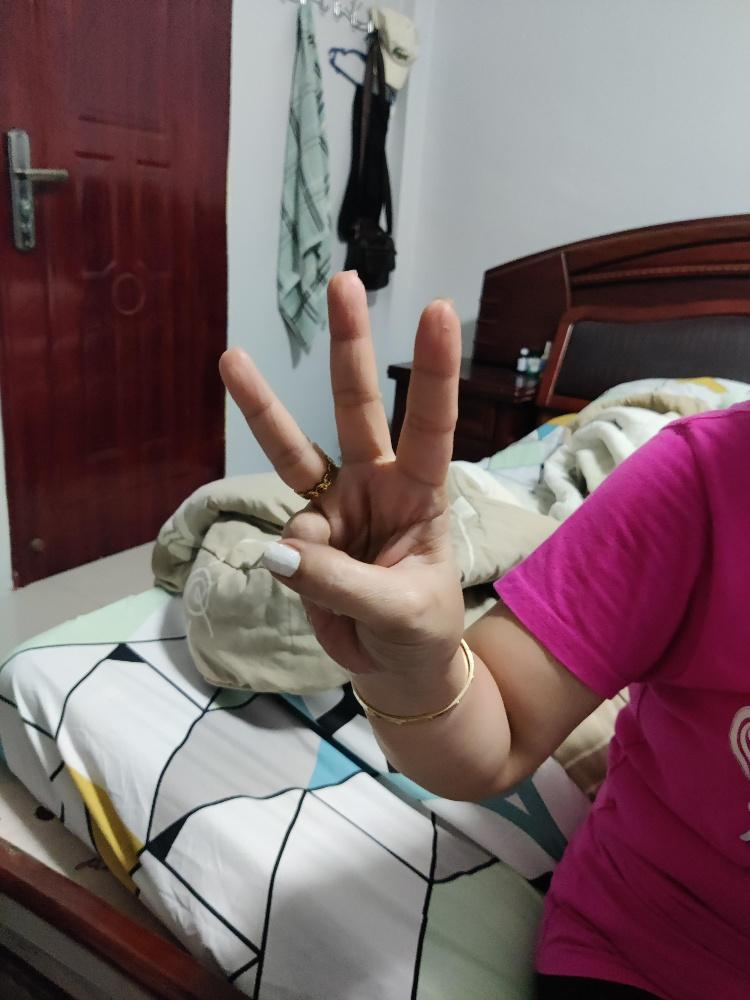w: (216, 266, 465, 673)
